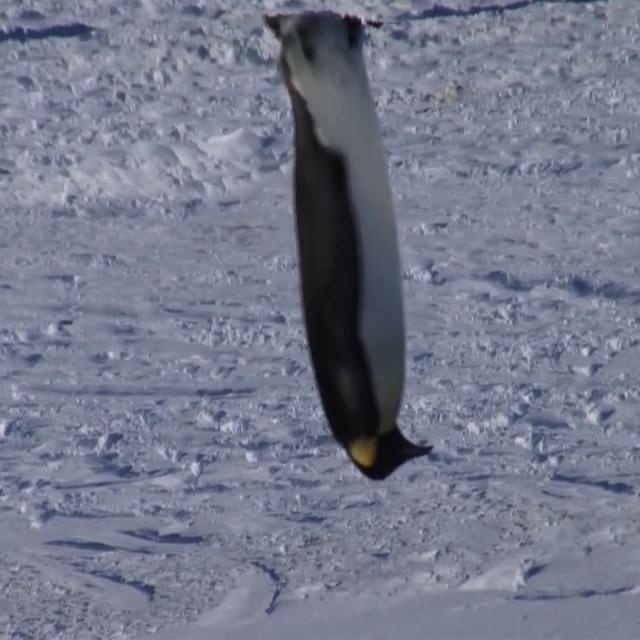penguin: (265, 11, 435, 481)
